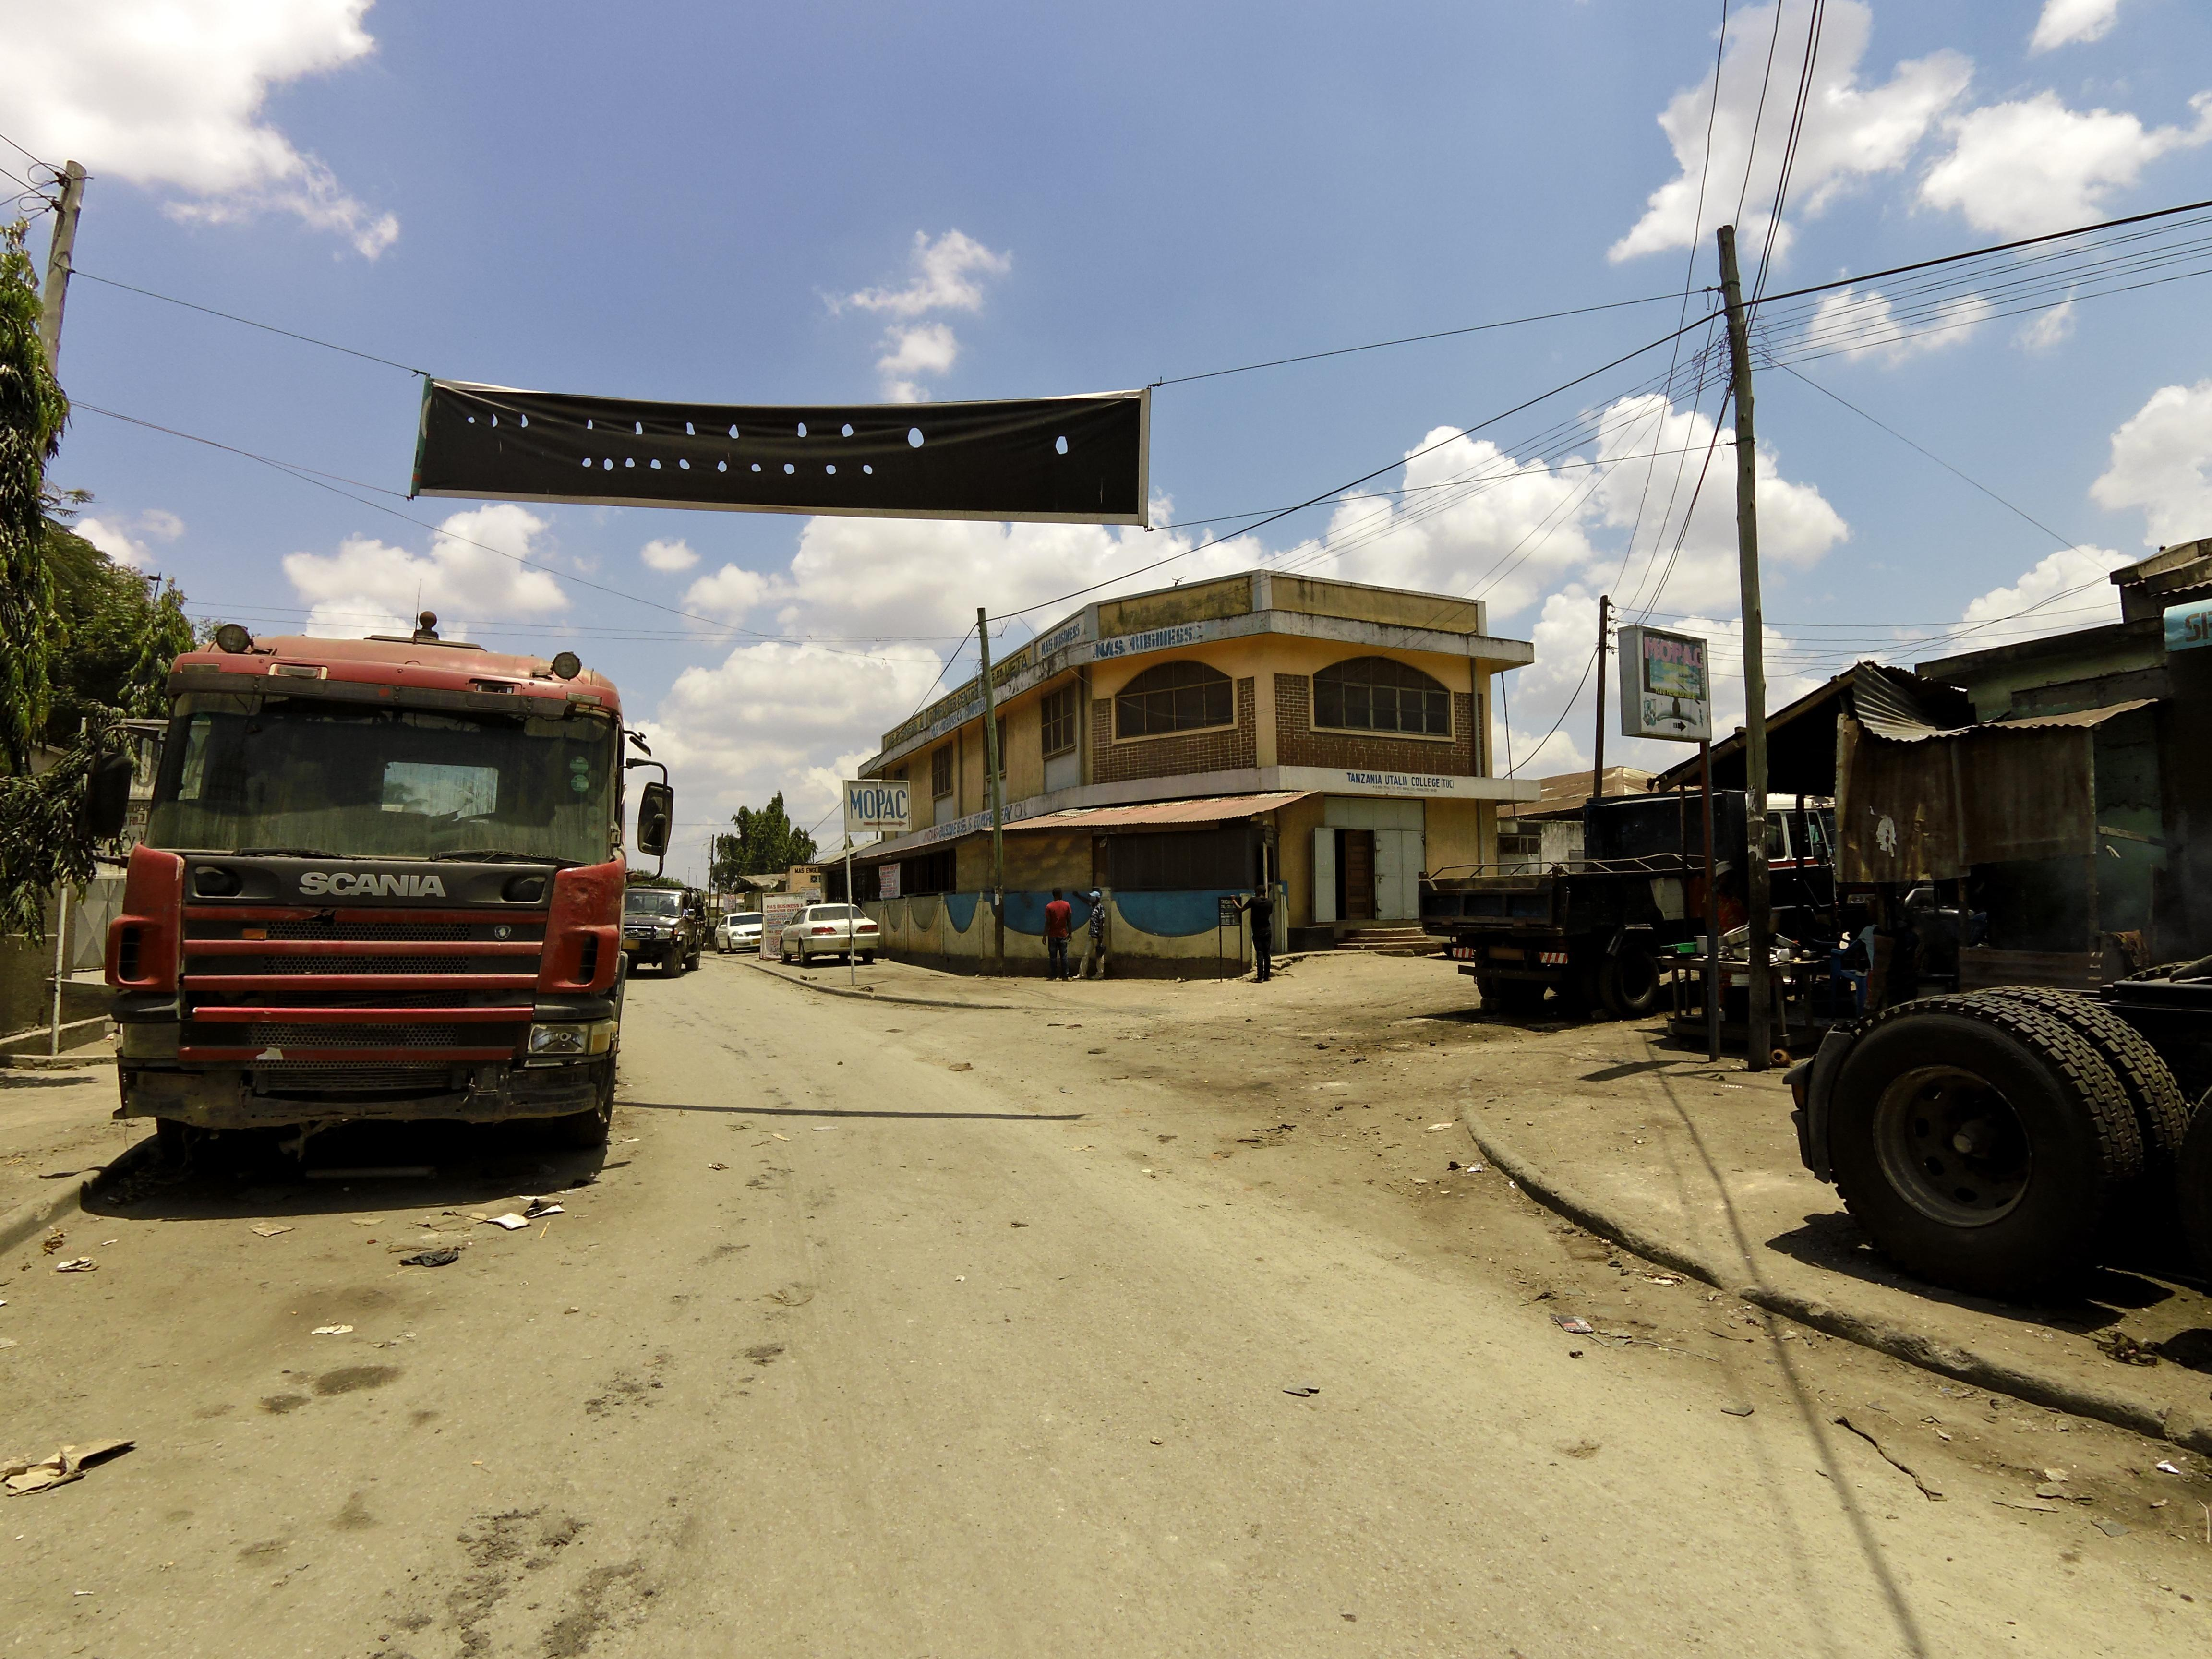vinyl banner: (404, 350, 1202, 572)
